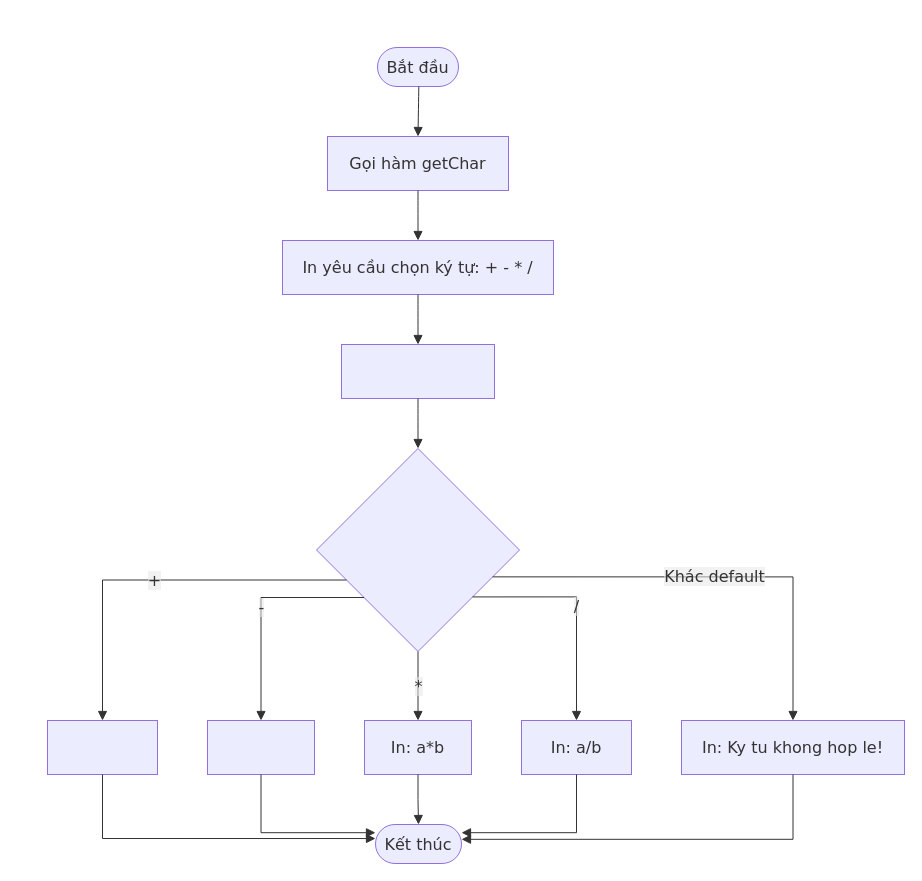
This 922x881 diagram has some shape labels left out. The box of each missing label's shape, as (x1, y1, x2, y2) in pixels:
In: a+b: (46, 720, 158, 774)
In: a-b: (206, 720, 314, 774)
Kiểm tra ký tự c: (316, 448, 520, 652)
Nhập ký tự c: (340, 344, 494, 398)
